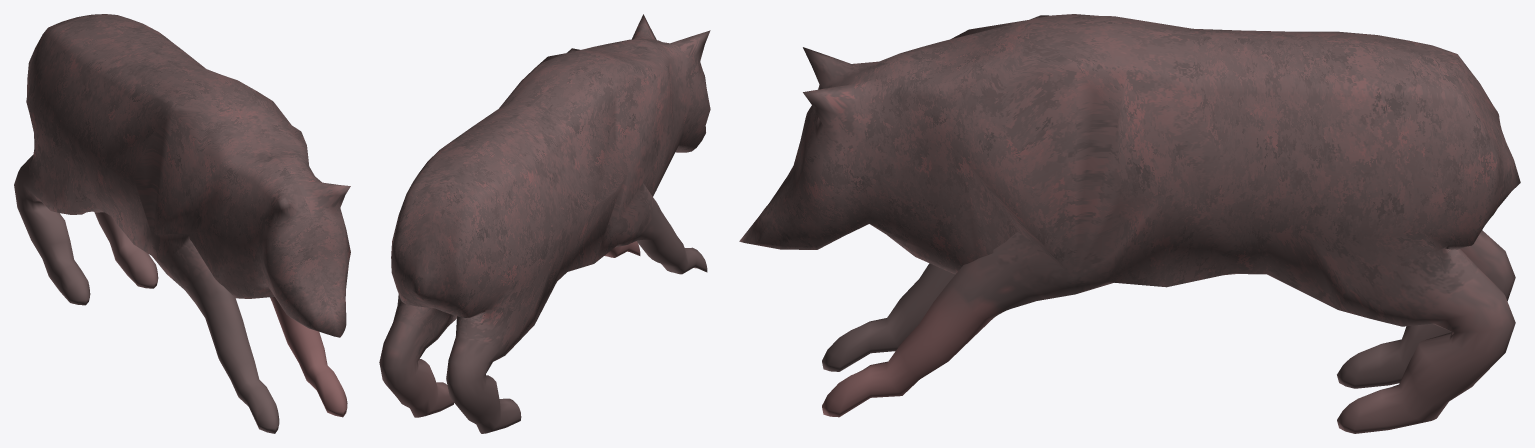
The model's file is piesblend_000029.obj.
The picture shows the model from 3 angles, left to right: view 1: azimuth 30°, elevation 25°; view 2: azimuth 150°, elevation 25°; view 3: azimuth 270°, elevation 25°; orthographic projection. The views are drawn at different scales.
Visible parts, largest first — view 1: Cube; view 2: Cube; view 3: Cube.
Part boxes in pixels (x1,y1,x2,y2): Cube: (14, 14, 350, 433); Cube: (379, 14, 710, 433); Cube: (739, 14, 1520, 433).
Bounding box in the file's own units: 2.55 × 4.91 × 9.15.
1 material, 1 textured.
